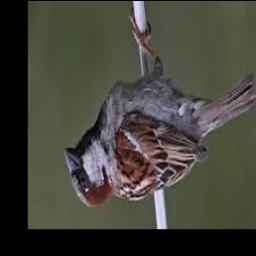Sparrow: (64, 12, 256, 209)
